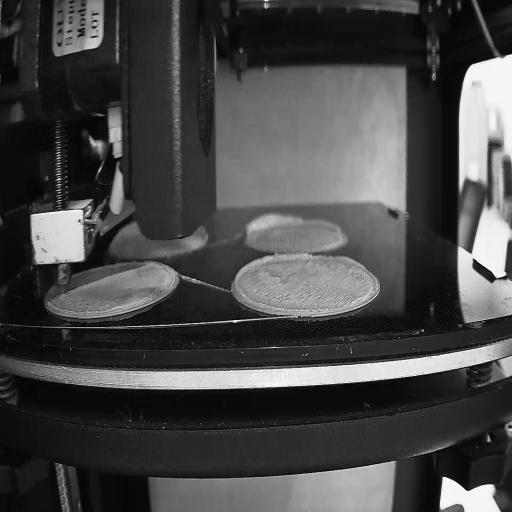over_extrusion: (233, 252, 316, 315), (72, 260, 153, 297), (239, 210, 304, 244), (330, 254, 365, 272), (307, 218, 342, 233)
